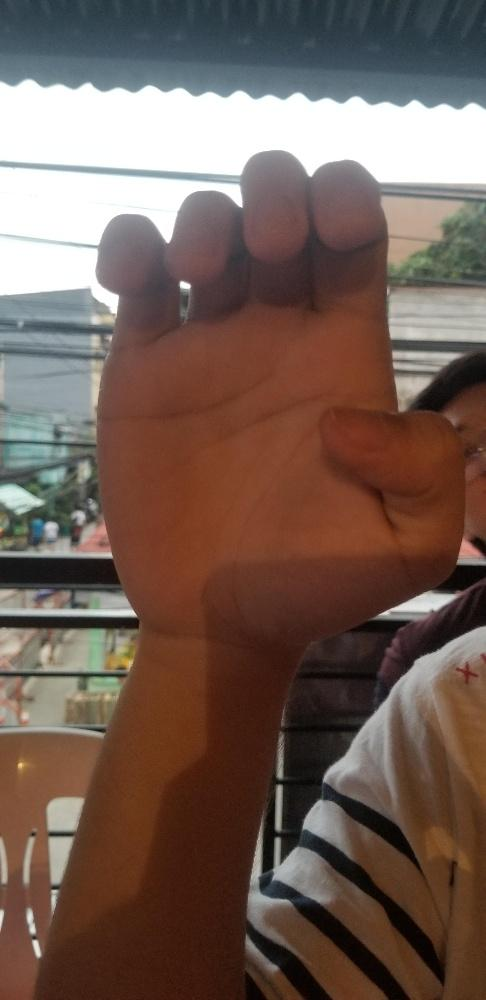e: (93, 150, 464, 634)
